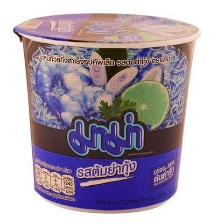paper_cup: (9, 8, 204, 217)
